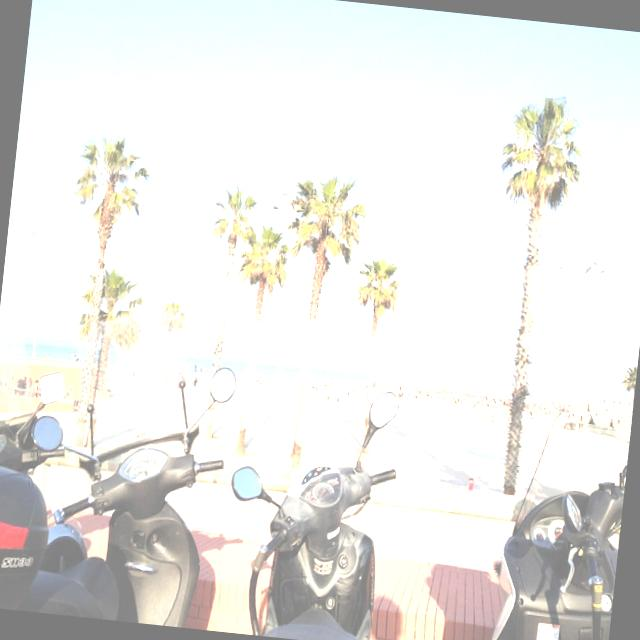Vehicle: (0, 336, 245, 621), (212, 374, 405, 640), (481, 401, 631, 640)
